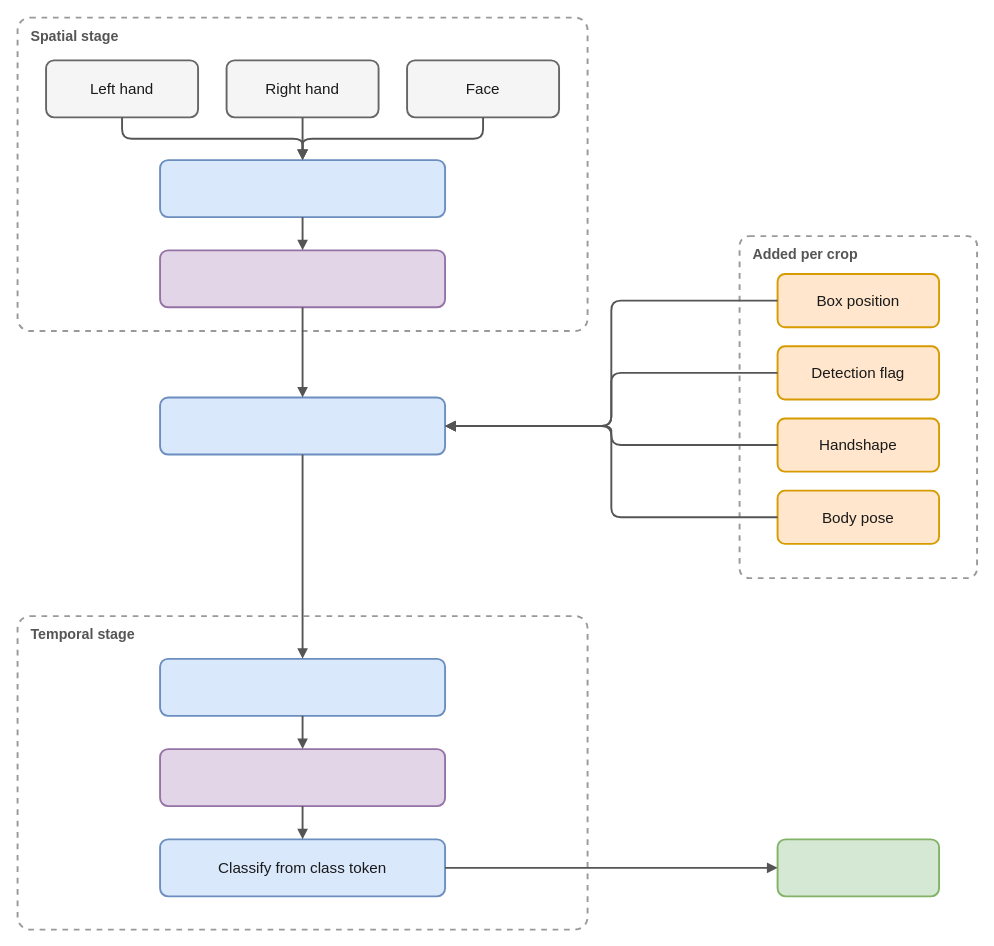
The diagram is 994 pixels wide and 946 high, and some of its shapes have lost their labels. Here are the shapes that lost their labels. From the top down, the centre of each, then its label:
At (302,188): "Patch embedding".
At (302,278): "Spatial encoder ×4".
At (302,425): "Crop tokens".
At (302,686): "Tag stream and time".
At (302,777): "Temporal encoder ×4".
At (858,867): "50 words".
